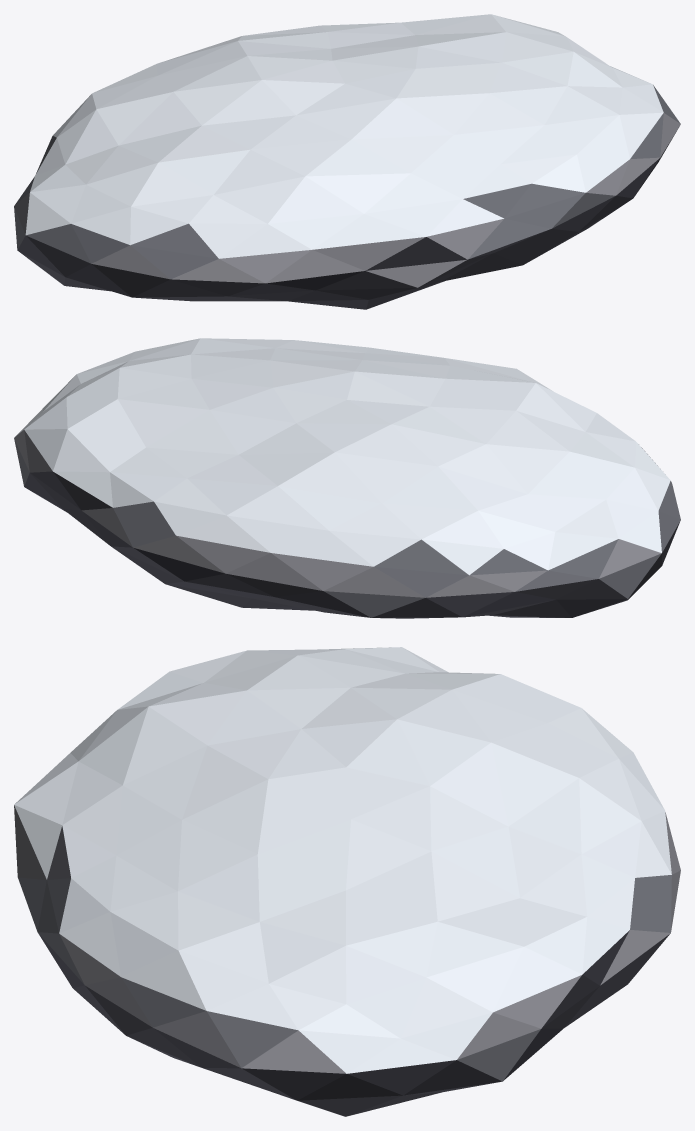
Rendered from rock_flat.glb.
The picture shows the model from 3 angles, top to bottom: view 1: azimuth 30°, elevation 25°; view 2: azimuth 150°, elevation 25°; view 3: azimuth 270°, elevation 25°; orthographic projection. The views are drawn at different scales.
Parts seen in each view (by area): view 1: rock_flat; view 2: rock_flat; view 3: rock_flat.
Part boxes in pixels (x1,y1,x2,y2): rock_flat: (14,14,680,309); rock_flat: (14,338,680,618); rock_flat: (14,647,680,1116).
Size of the model in its own units: 14.33 by 3.88 by 10.07.
1 material, 1 textured.
